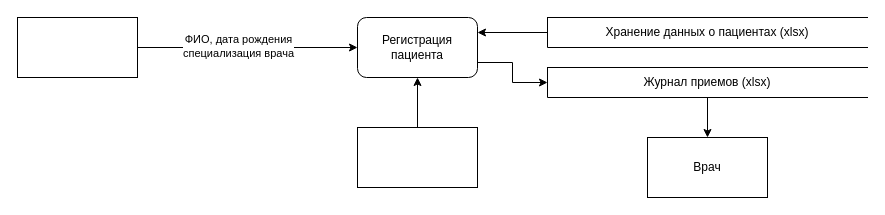
Some shapes in this 885 by 215 pixel diagram are drawn without their labels. Here are the shapes that lost their labels. From the top down, the centre of each, then its label:
the point at 77,47: Пациент
the point at 417,157: Работник регистратуры
